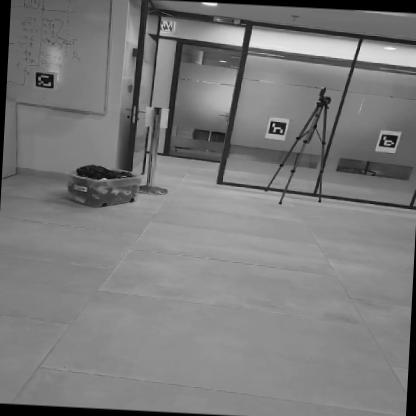open: (154, 37, 236, 192)
